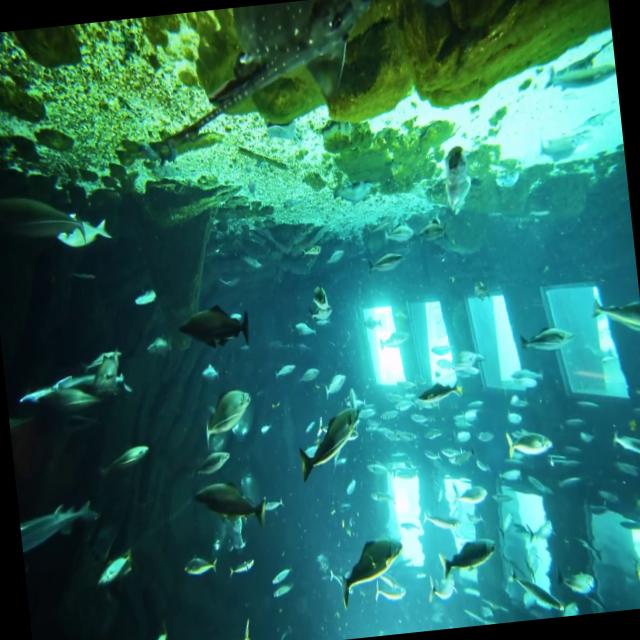fish: (290, 390, 375, 486), (338, 529, 406, 605), (195, 473, 272, 532), (179, 300, 254, 356), (436, 532, 496, 584), (502, 427, 556, 465)
